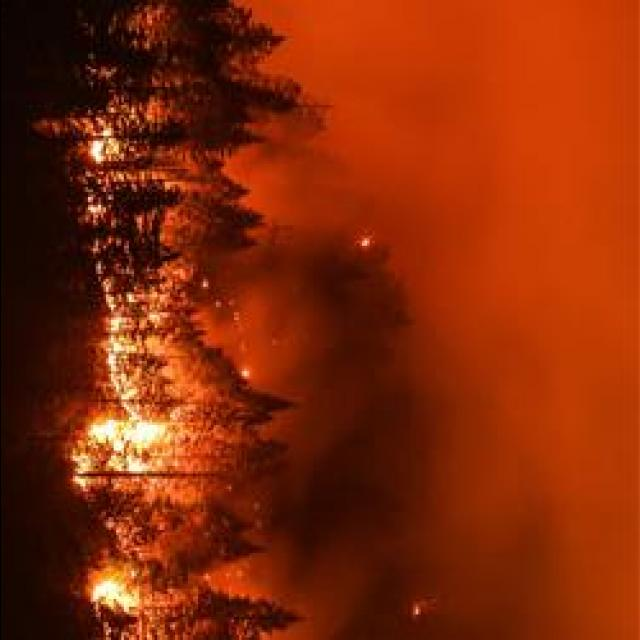fire: (94, 296, 149, 439), (78, 404, 172, 478), (85, 571, 137, 617), (80, 139, 110, 163)
smoke: (376, 425, 530, 564), (297, 550, 384, 640), (251, 290, 333, 368), (266, 156, 356, 222)
